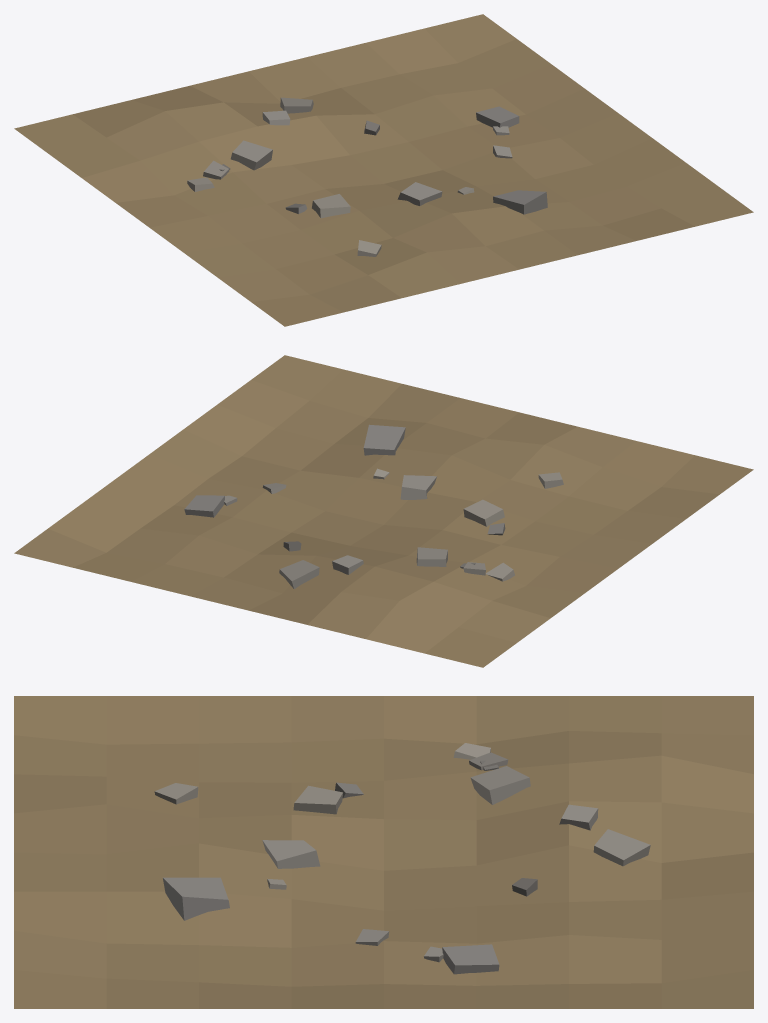
File: rocky_dirt_lowpoly.glb
The picture shows the model from 3 angles, top to bottom: view 1: azimuth 30°, elevation 25°; view 2: azimuth 150°, elevation 25°; view 3: azimuth 270°, elevation 25°; orthographic projection. The views are drawn at different scales.
Parts seen in each view (by area): view 1: Rocky_dirtTile; view 2: Rocky_dirtTile; view 3: Rocky_dirtTile.
Boxes of the visible parts, x1,y1,x2,y2 form: Rocky_dirtTile: [14, 14, 753, 326]; Rocky_dirtTile: [14, 355, 753, 667]; Rocky_dirtTile: [14, 696, 753, 1008].
Size of the model in its own units: 1 by 0.0802 by 1.
